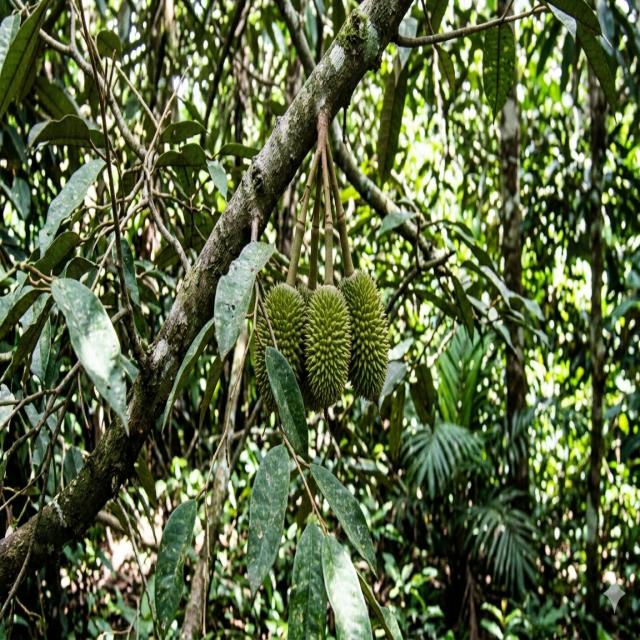immature: (338, 267, 390, 402), (258, 279, 310, 407), (300, 282, 352, 408), (252, 326, 279, 414), (336, 269, 364, 305), (295, 280, 313, 304)
